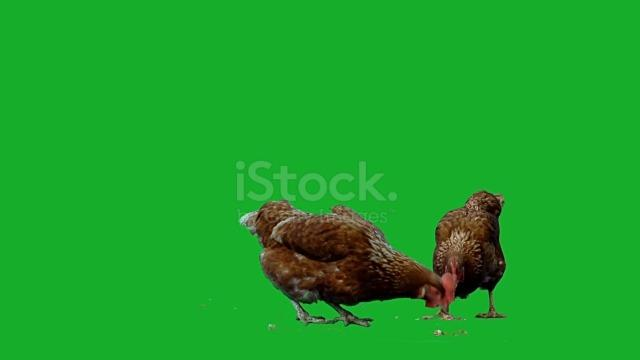Normal: (243, 192, 459, 328), (429, 178, 508, 325)
